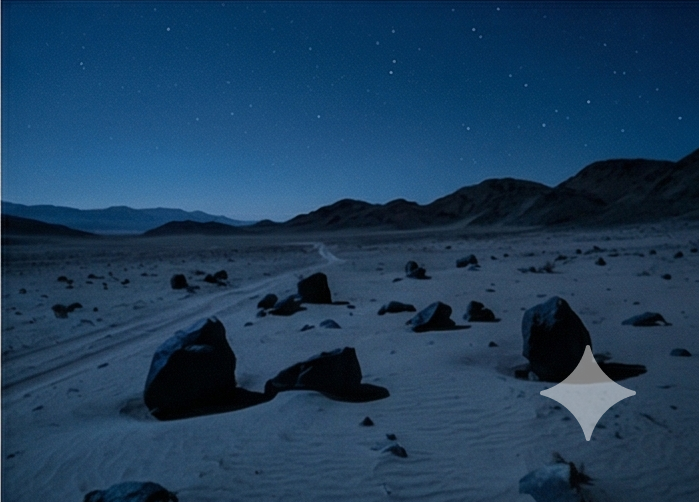rocks: (142, 314, 237, 416), (520, 293, 591, 379), (263, 346, 363, 397), (517, 461, 584, 501), (83, 479, 176, 501), (406, 300, 455, 331), (294, 270, 330, 302), (619, 311, 668, 327), (268, 292, 300, 313), (463, 299, 495, 320), (375, 300, 413, 314), (49, 302, 81, 317), (376, 442, 407, 457), (170, 273, 193, 288), (455, 253, 479, 267), (404, 259, 419, 273), (318, 318, 341, 327), (667, 348, 690, 356), (358, 415, 373, 425), (213, 270, 227, 280), (254, 307, 267, 317), (593, 256, 606, 265), (553, 254, 567, 260), (590, 245, 603, 251)
